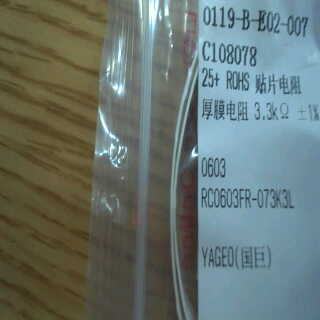3.3kO: (253, 100, 292, 125)
